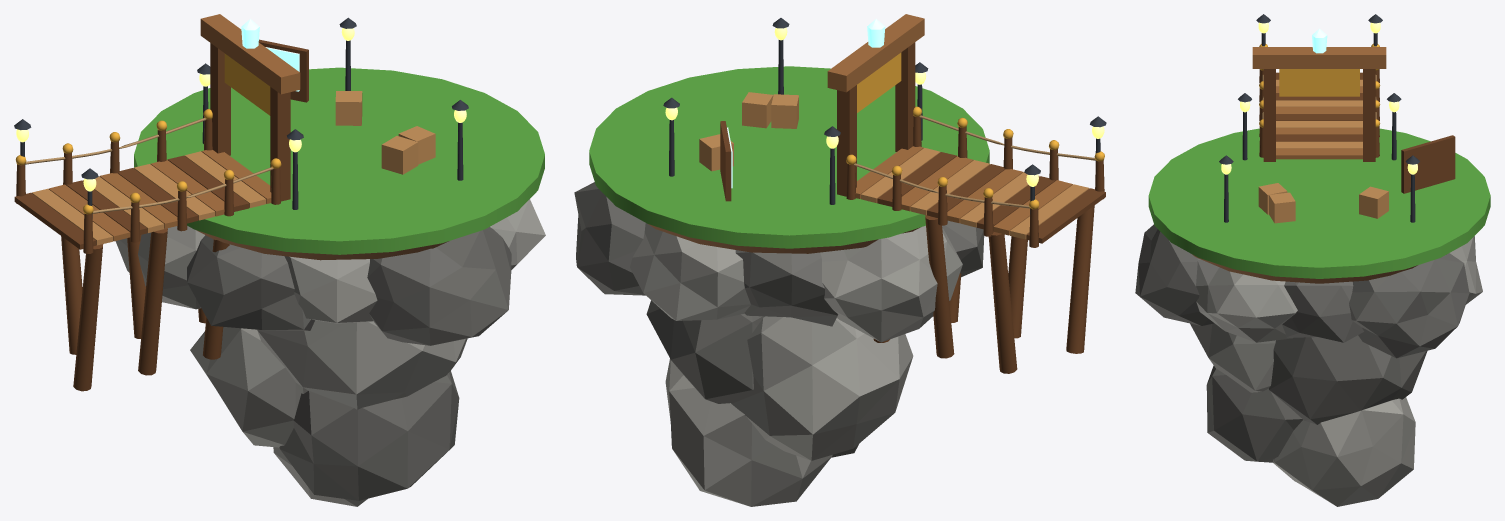
Rendered from SkyDock.glb.
3 views of the same model, side by side, from view 1: azimuth 30°, elevation 25°; view 2: azimuth 150°, elevation 25°; view 3: azimuth 270°, elevation 25° (orthographic). The views are drawn at different scales.
Parts seen in each view (by area): view 1: Body, Lamp, Glow; view 2: Body, Lamp; view 3: Body, Lamp.
Boxes of the visible parts, x1=… form: Body: x1=14, y1=14, x2=545, y2=506; Lamp: x1=16, y1=28, x2=466, y2=191; Glow: x1=241, y1=19, x2=299, y2=91; Body: x1=574, y1=14, x2=1106, y2=506; Lamp: x1=665, y1=27, x2=1104, y2=186; Body: x1=1135, y1=14, x2=1490, y2=506; Lamp: x1=1221, y1=22, x2=1417, y2=174.
Bounding box in the file's own units: 29.05 × 30.4 × 22.85.
3 materials, 1 textured.
